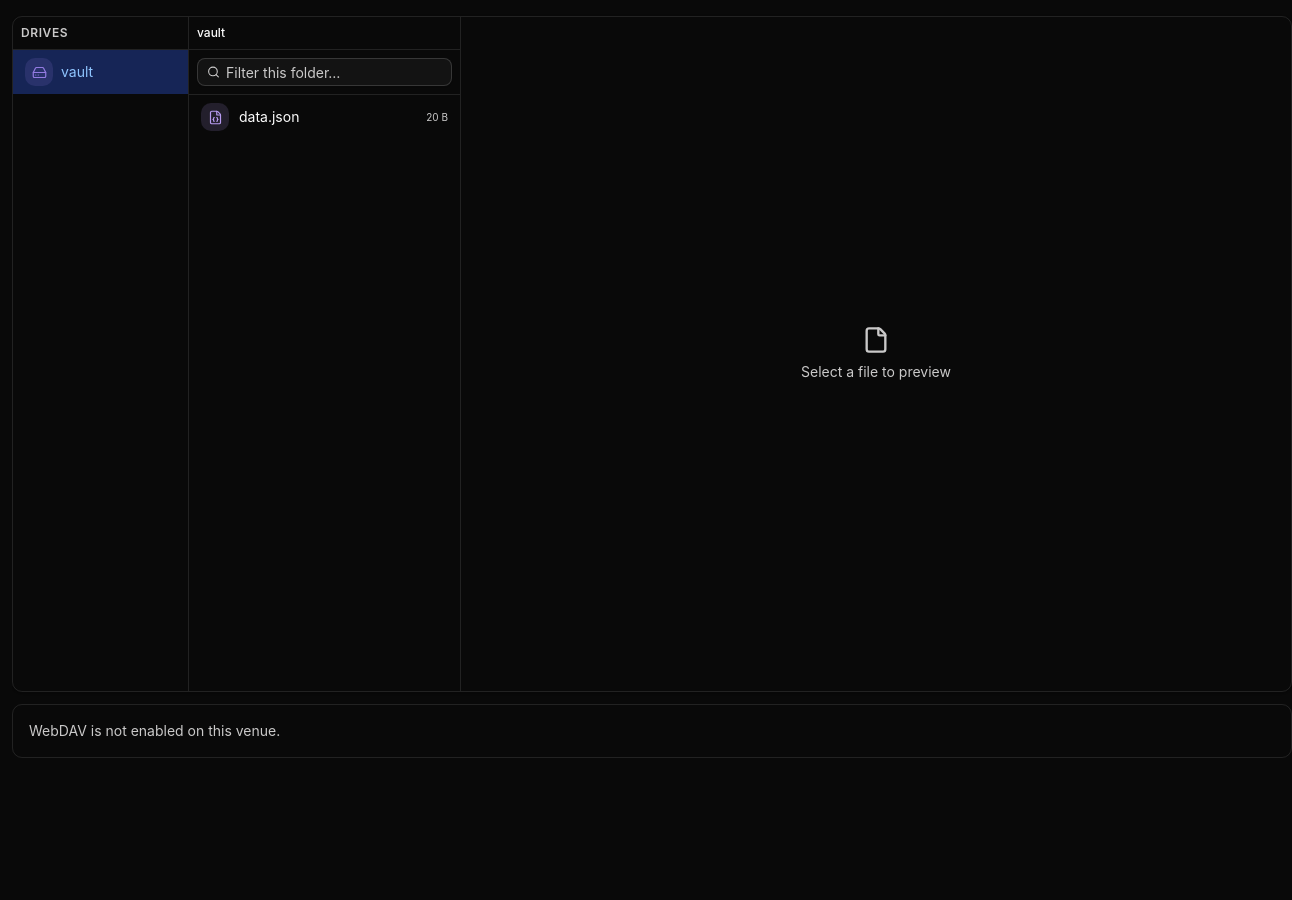
FilesExplorer › renders pretty-printed JSON content for a .json file
The width and height of the screenshot is (1292, 900).
Step 1. Click the text "data.json" → (269, 116), box [239,108,299,125]
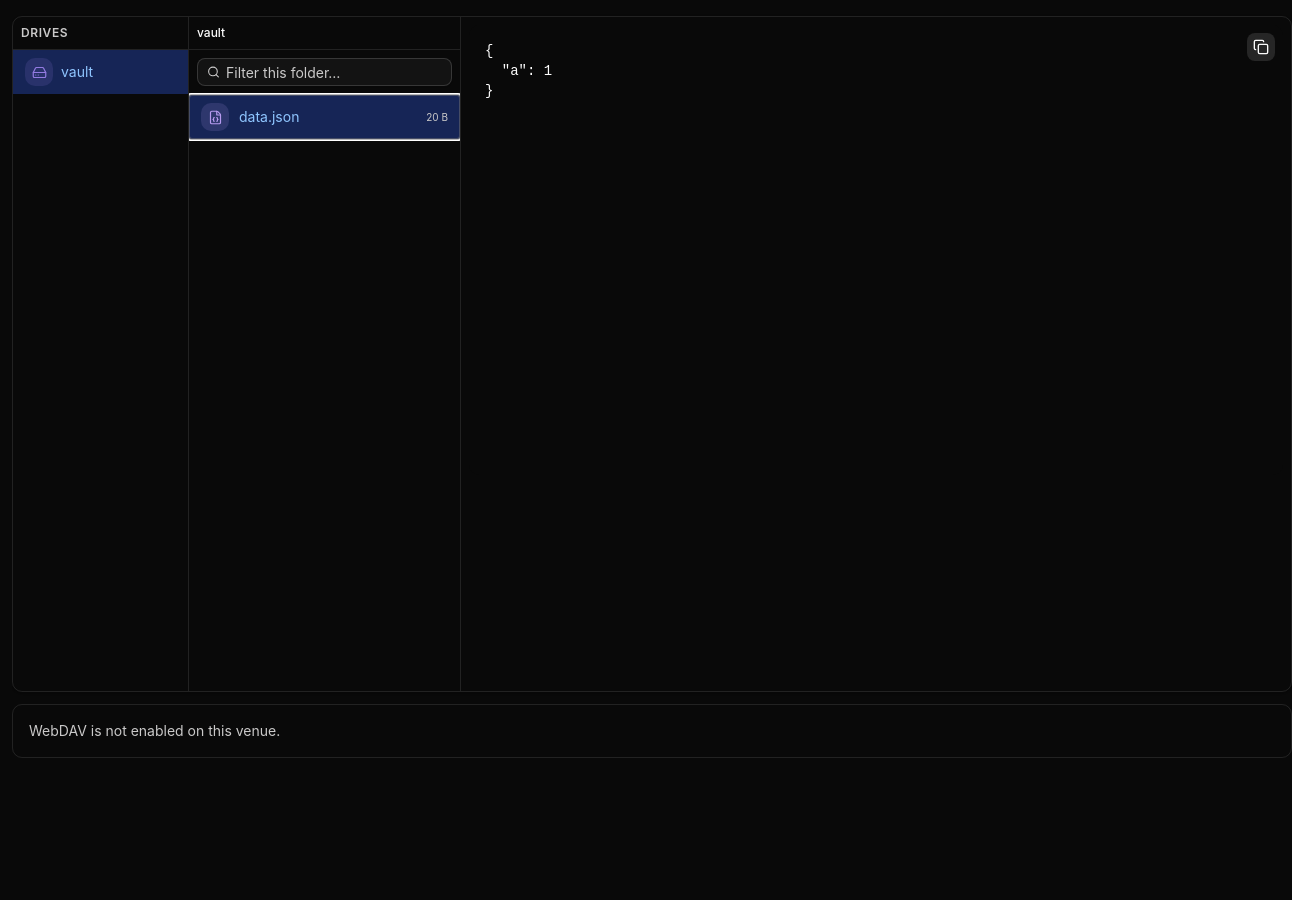
Now the text box showing "\"a\": 1" is shown, box [469,25,1283,475]
